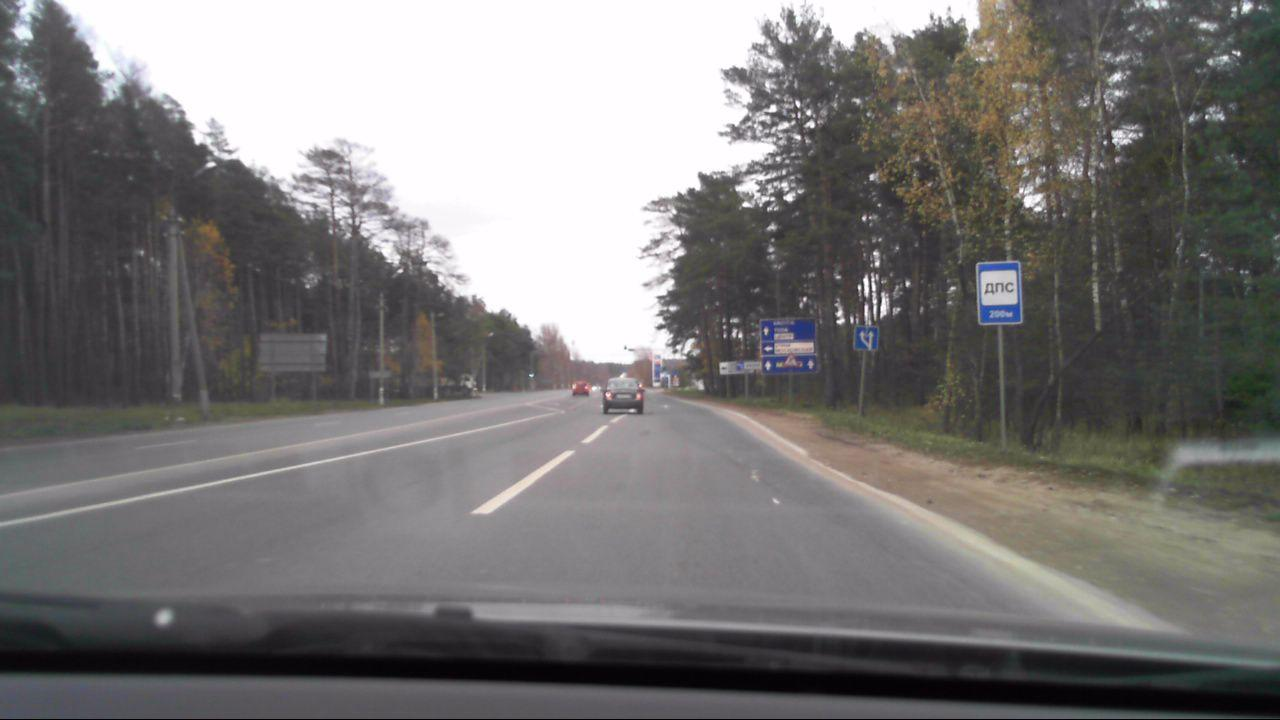1_22: (781, 351, 799, 367)
5_15_4: (857, 326, 878, 350)
6_10_1: (759, 317, 815, 372)
7_12: (977, 259, 1020, 325)
